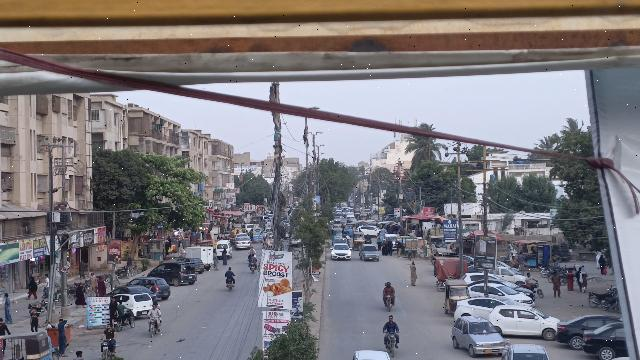Bike: (111, 311, 135, 332), (382, 330, 401, 356), (521, 282, 544, 298), (99, 337, 115, 359), (146, 317, 160, 339), (382, 293, 396, 313), (225, 276, 235, 292), (249, 262, 258, 273)
Car: (490, 305, 560, 339), (451, 317, 505, 356), (556, 315, 613, 350), (581, 321, 625, 358), (453, 296, 513, 318), (149, 261, 197, 287), (135, 275, 172, 301), (124, 293, 153, 319), (506, 344, 550, 360), (358, 242, 381, 264), (329, 242, 353, 263)
Person: (56, 318, 70, 358), (2, 290, 15, 324), (381, 313, 400, 334), (549, 271, 563, 299), (26, 307, 41, 333), (408, 260, 419, 288), (578, 266, 588, 295), (147, 302, 164, 319), (101, 323, 118, 340), (381, 279, 399, 295), (116, 298, 127, 315), (224, 265, 238, 278), (523, 270, 534, 286), (212, 250, 220, 271), (249, 252, 257, 262)
Rickshaw: (442, 278, 468, 317)
Truck: (184, 245, 215, 268)
